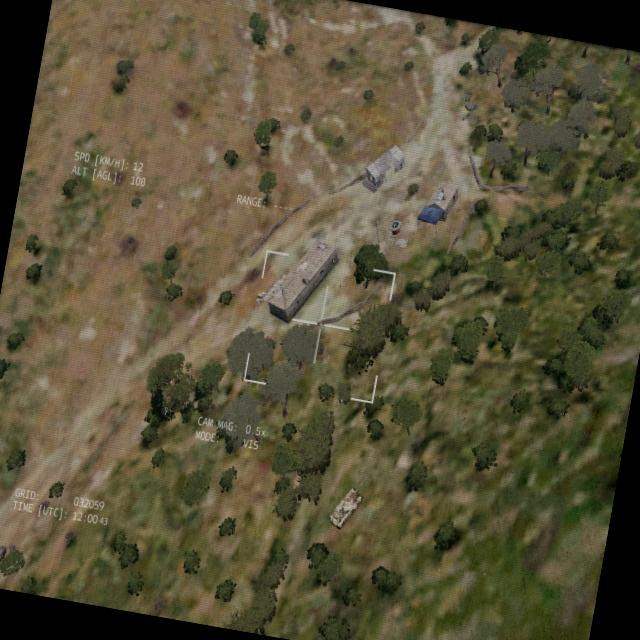tank: (326, 470, 369, 532)
